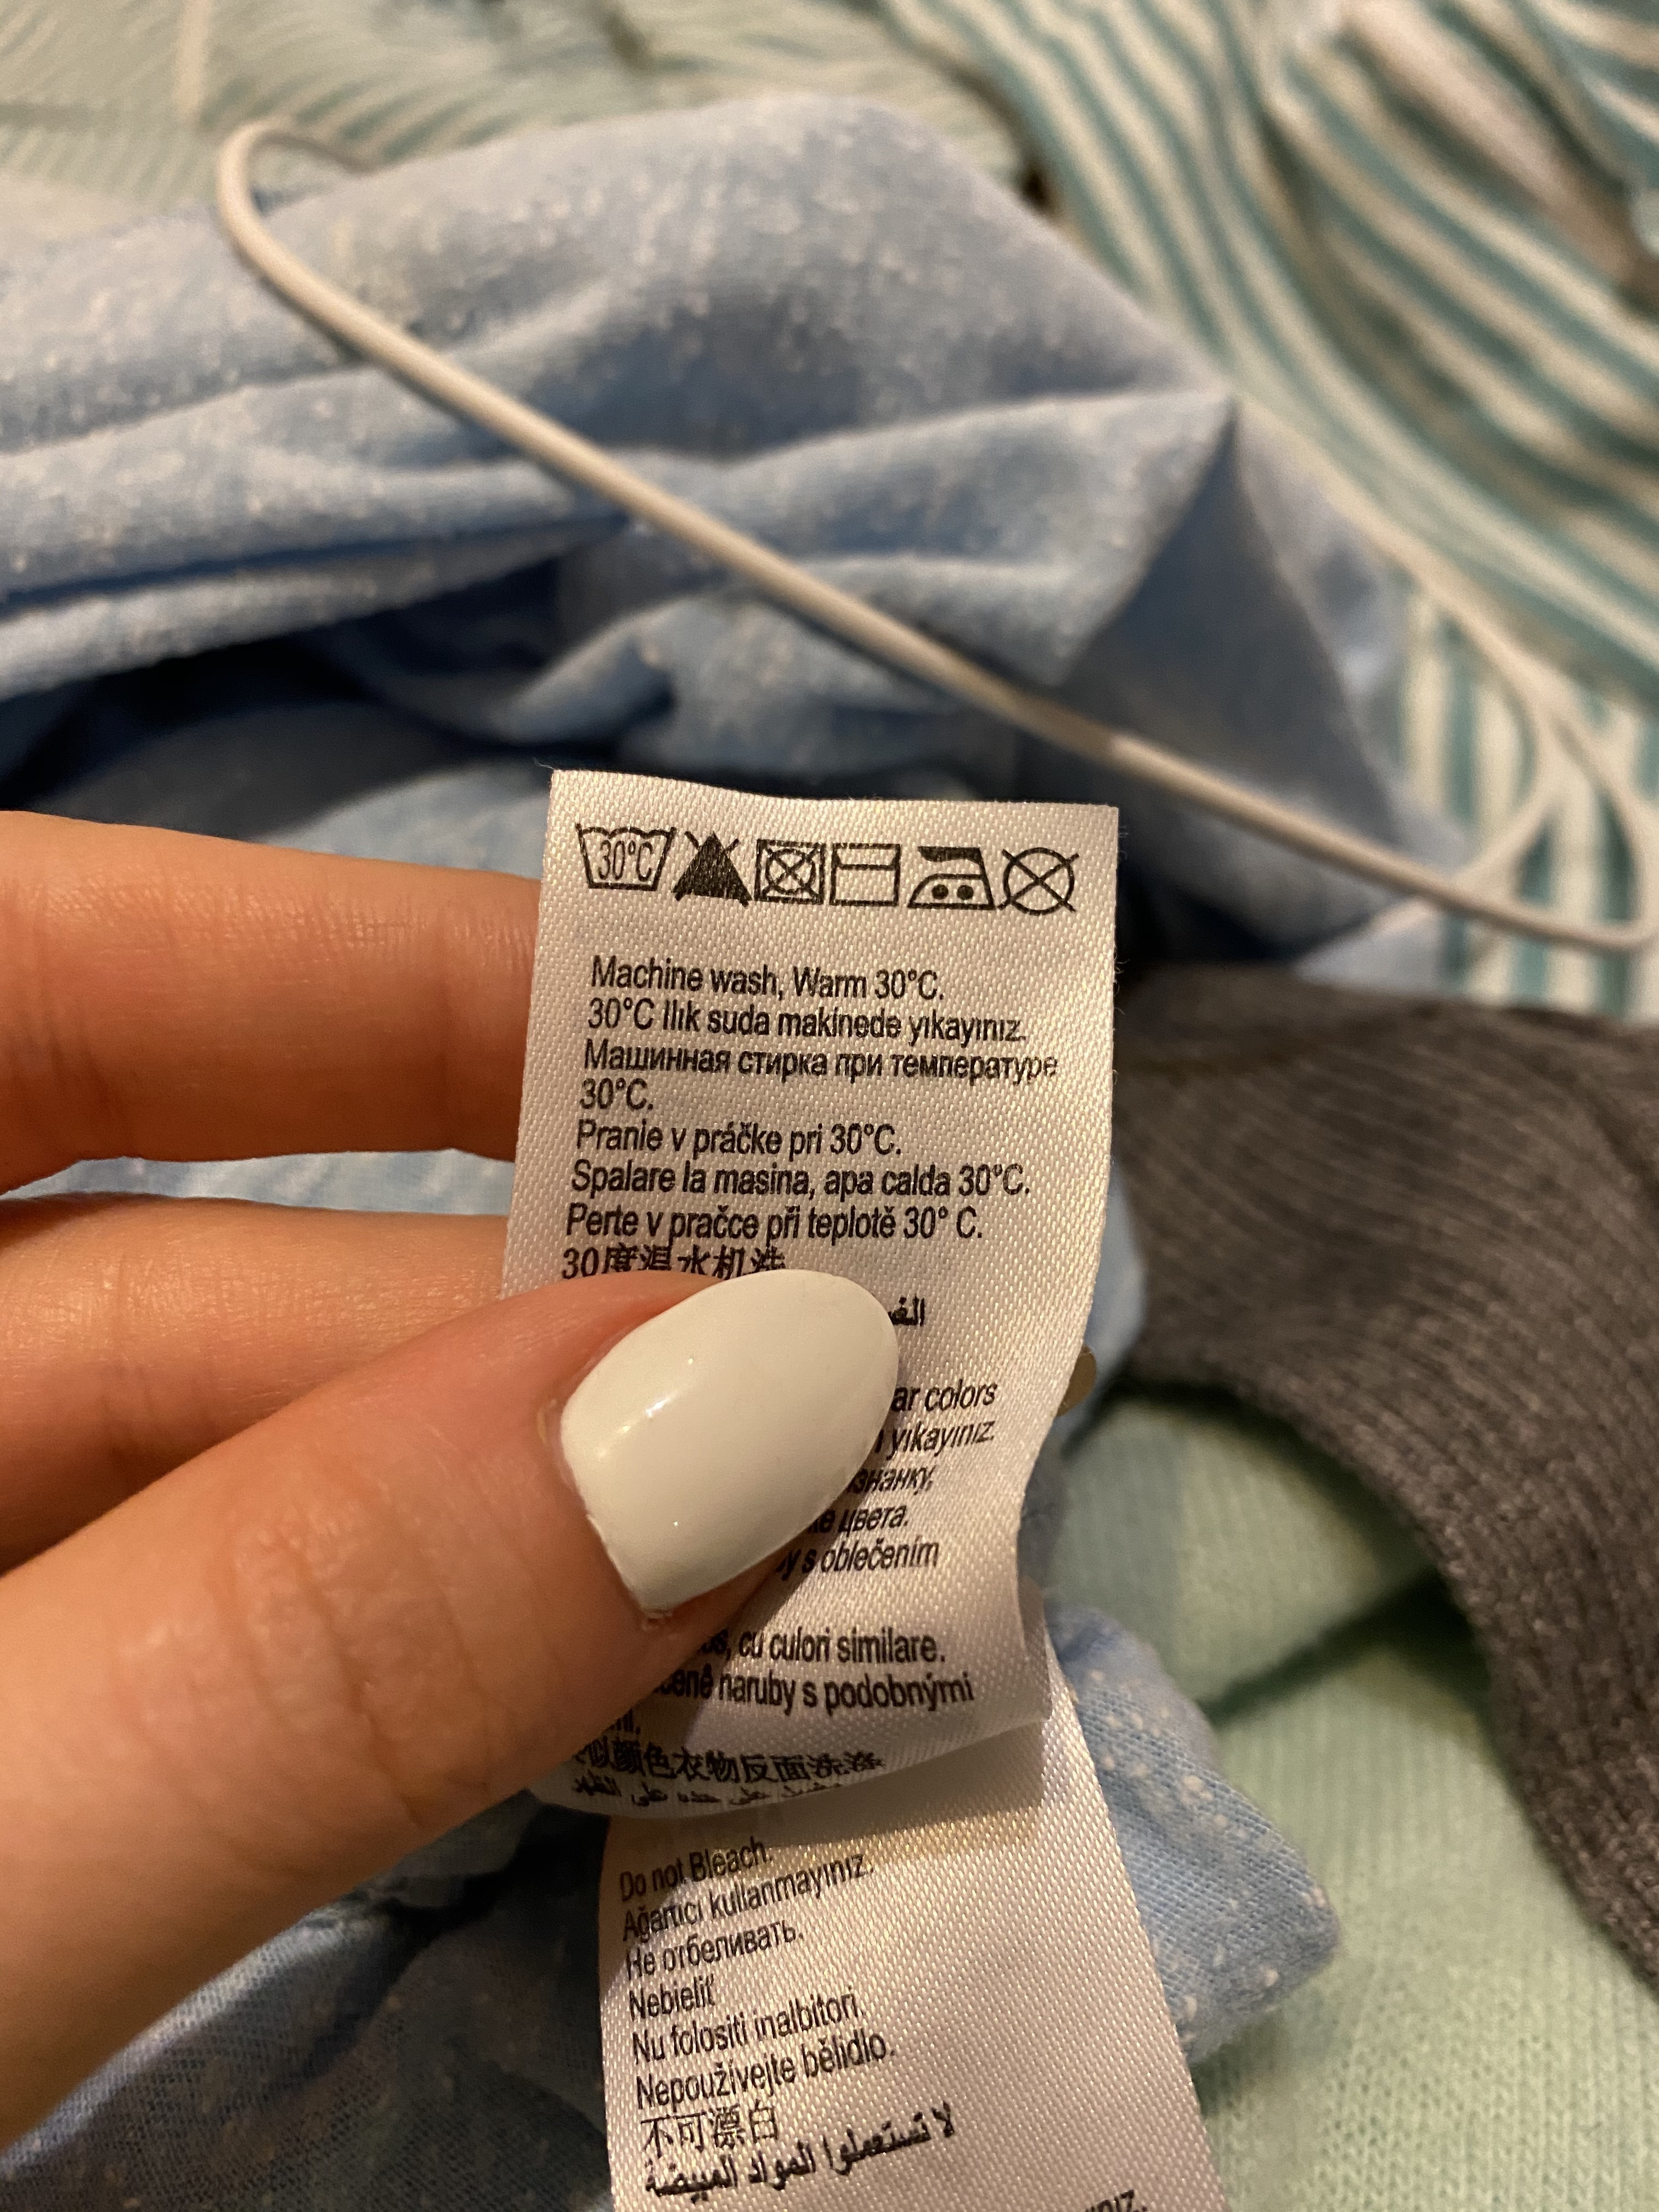do_not_bleach: (671, 829, 753, 907)
do_not_dry_clean: (993, 845, 1087, 914)
do_not_tumble_drying: (749, 838, 831, 907)
ironing_at_med_temp: (906, 843, 997, 913)
line_dry: (828, 841, 904, 911)
wash_at_or_below_30: (570, 822, 678, 894)
